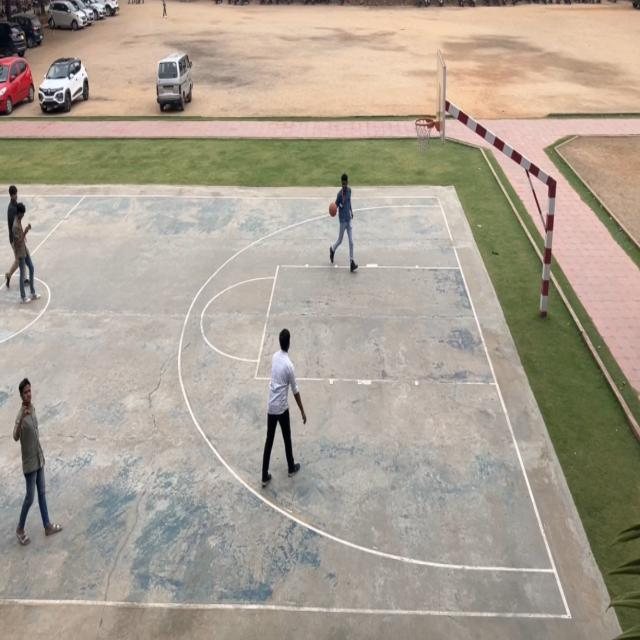basketball: (329, 201, 338, 217)
hoop: (413, 116, 435, 152)
